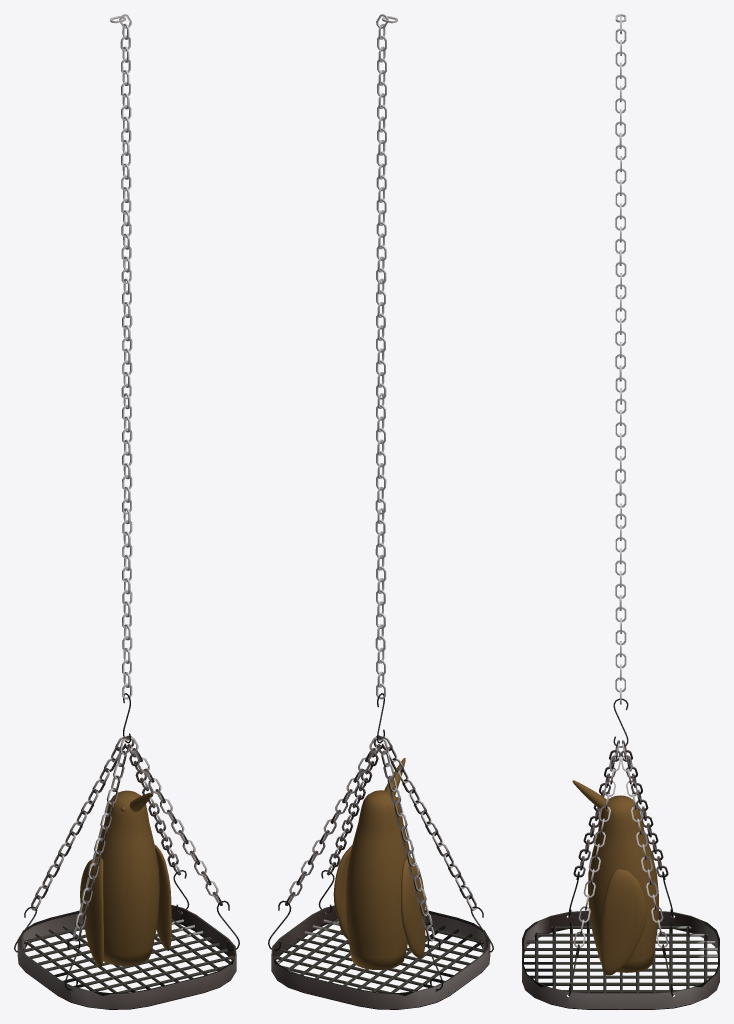
3 views of the same model, side by side, from view 1: azimuth 30°, elevation 25°; view 2: azimuth 150°, elevation 25°; view 3: azimuth 270°, elevation 25° (orthographic).
Parts seen in each view (by area): view 1: rihuto_P; view 2: rihuto_P; view 3: rihuto_P.
Boxes of the visible parts, bbox=[...] form: rihuto_P: bbox=[14, 14, 239, 1009]; rihuto_P: bbox=[268, 14, 493, 1009]; rihuto_P: bbox=[522, 14, 719, 1009].
Bounding box in the file's own units: 59.76 × 310 × 58.65.
3 materials, 3 textured.
